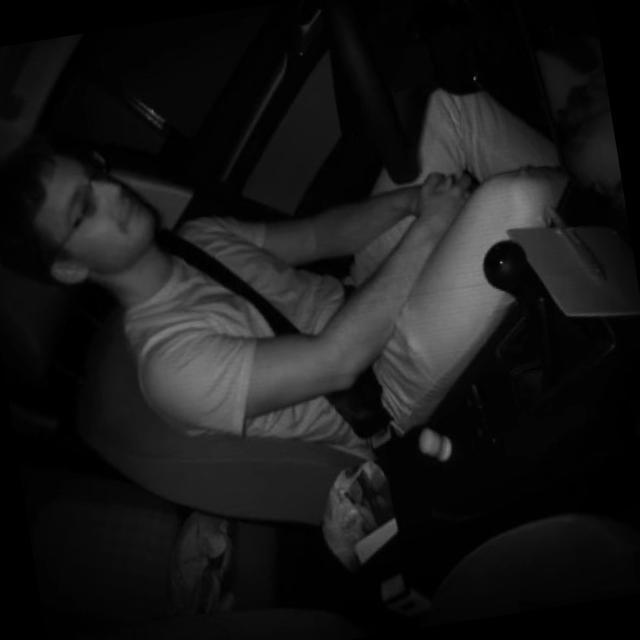pen: (544, 188, 612, 294)
